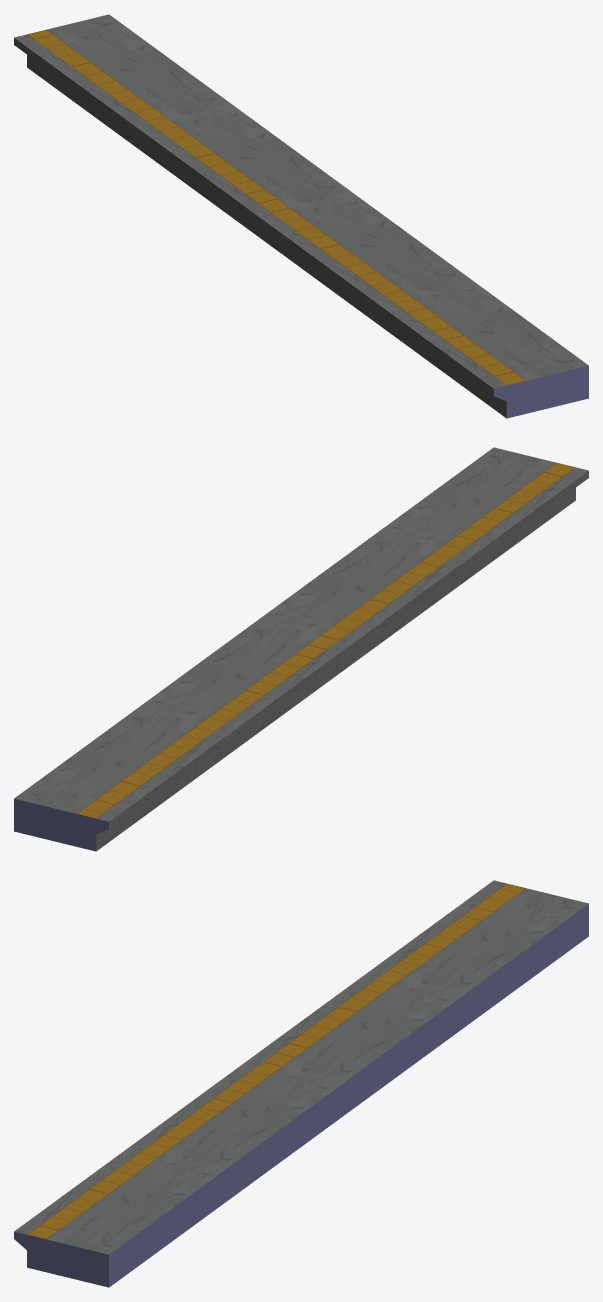
File: Platform.fbx
3 renders of one model, top to bottom at view 1: azimuth 30°, elevation 25°; view 2: azimuth 150°, elevation 25°; view 3: azimuth 330°, elevation 25°, orthographic.
Visible parts, largest first — view 1: Platform; view 2: Platform; view 3: Platform.
Boxes of the visible parts, x1=… form: Platform: x1=14, y1=14, x2=588, y2=418; Platform: x1=14, y1=447, x2=588, y2=851; Platform: x1=14, y1=880, x2=588, y2=1287.
Size of the model in its own units: 1276 by 422 by 11149.
1 material, 1 textured.
